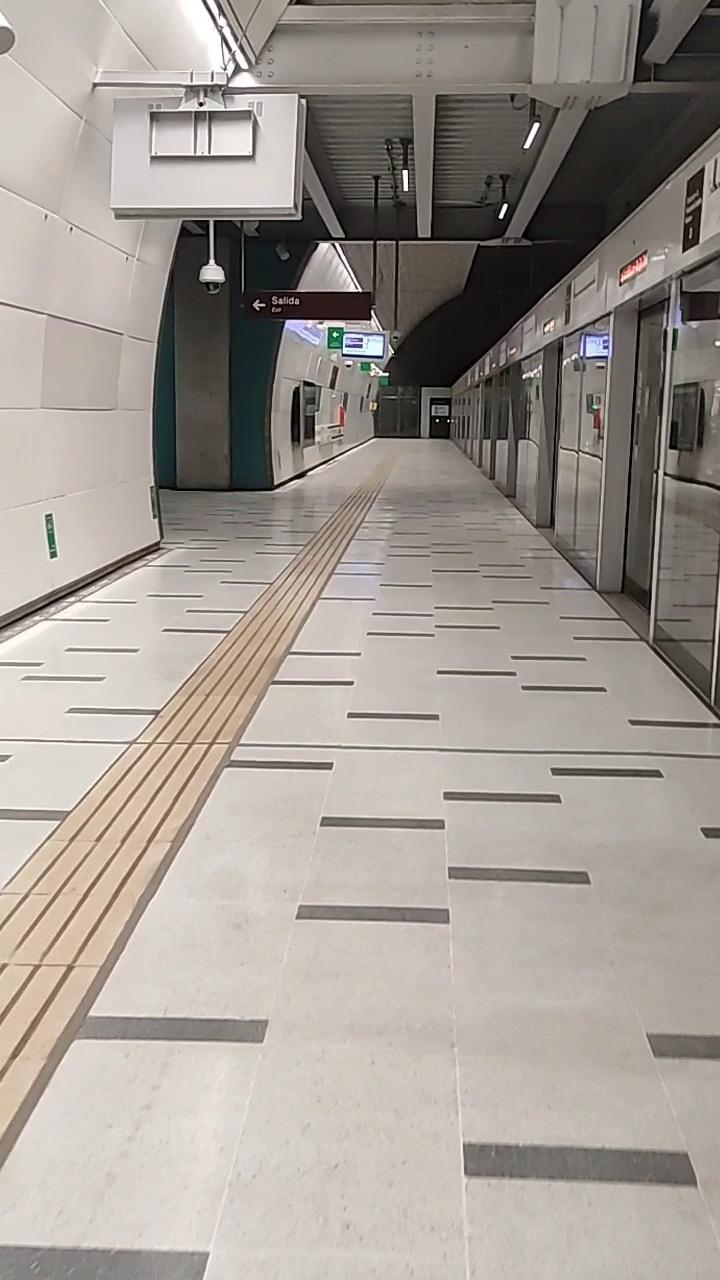left arrow: (251, 297, 267, 313)
